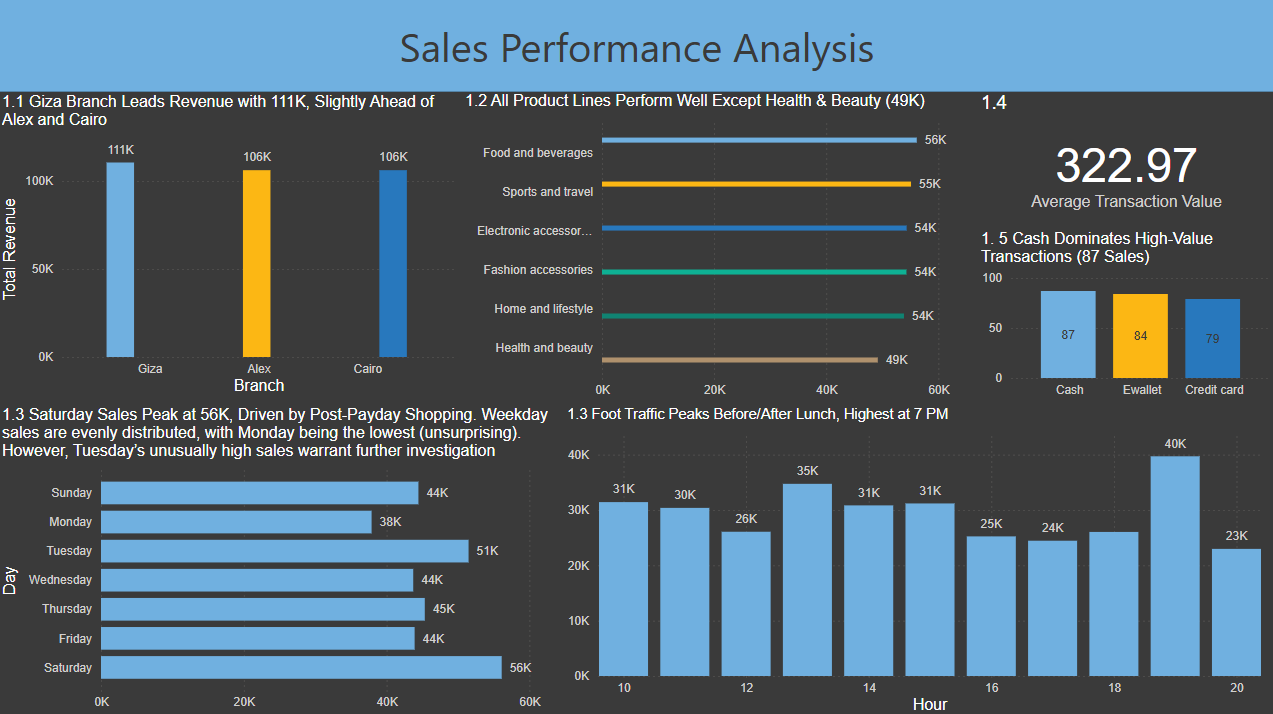

The dashboard page shown, as its layout file describes it:
{"tool":"powerbi","page":{"name":"Page 1","canvas":[1280,720],"ordinal":0},"visuals":[{"type":"clusteredColumnChart","title":"1.1 Giza Branch Leads Revenue with 111K, Slightly Ahead of Alex and Cairo","fields":{"Category":["SuperMarket Analysis.Branch"],"Y":["Sum(SuperMarket Analysis.Sales)"],"Series":["SuperMarket Analysis.Branch"]},"box":[0,94.7,462.6,306.4],"z":0},{"type":"card","title":"1.4","fields":{"Values":["Avg(SuperMarket Analysis.Sales)"]},"box":[978.9,94.4,301.1,137.8],"z":2000},{"type":"columnChart","title":"1. 5 Cash Dominates High-Value Transactions (87 Sales)","fields":{"Category":["SuperMarket Analysis.Payment"],"Y":["CountNonNull(SuperMarket Analysis.Transaction Category)"],"Series":["SuperMarket Analysis.Payment"]},"box":[978.9,232.2,301.1,175.6],"z":3000},{"type":"clusteredBarChart","title":"1.3 Saturday Sales Peak at 56K, Driven by Post-Payday Shopping.  Weekday sales are evenly distributed, with Monday being the lowest (unsurprising). However, Tuesday’s unusually high sales warrant furt","fields":{"Category":["SuperMarket Analysis.Day Name"],"Y":["Sum(SuperMarket Analysis.Sales)"]},"box":[0,408.2,565.4,311.4],"z":4000},{"type":"columnChart","title":"1.3 \tFoot Traffic Peaks Before/After Lunch, Highest at 7 PM","fields":{"Category":["SuperMarket Analysis.Hour"],"Y":["Sum(SuperMarket Analysis.Sales)"]},"box":[565.4,408.2,703.5,311.4],"z":5000},{"type":"shape","box":[0,0,1280,94.4],"z":6000},{"type":"clusteredBarChart","title":"1.2 All Product Lines Perform Well Except Health & Beauty (49K)","fields":{"Category":["SuperMarket Analysis.Product line"],"Y":["Sum(SuperMarket Analysis.Sales)"],"Series":["SuperMarket Analysis.Product line"]},"box":[463.3,94.4,515.6,313.3],"z":7000}]}

Visuals, with their boxes in screenshot pixels (x1, y1, x2, y2), scaled from the page's 1280x720 canvas onto the 1273x714 screenshot:
"1.1 Giza Branch Leads Revenue with 111K, Slightly Ahead of Alex and Cairo" clusteredColumnChart: (left=0, top=94, right=460, bottom=398)
"1.4" card: (left=974, top=94, right=1272, bottom=230)
"1. 5 Cash Dominates High-Value Transactions (87 Sales)" columnChart: (left=974, top=230, right=1272, bottom=404)
"1.3 Saturday Sales Peak at 56K, Driven by Post-Payday Shopping.  Weekday sales are evenly distributed, with Monday being the lowest (unsurprising). However, Tuesday’s unusually high sales warrant furt" clusteredBarChart: (left=0, top=405, right=562, bottom=713)
"1.3 	Foot Traffic Peaks Before/After Lunch, Highest at 7 PM" columnChart: (left=562, top=405, right=1262, bottom=713)
shape: (left=0, top=0, right=1272, bottom=94)
"1.2 All Product Lines Perform Well Except Health & Beauty (49K)" clusteredBarChart: (left=461, top=94, right=974, bottom=404)
